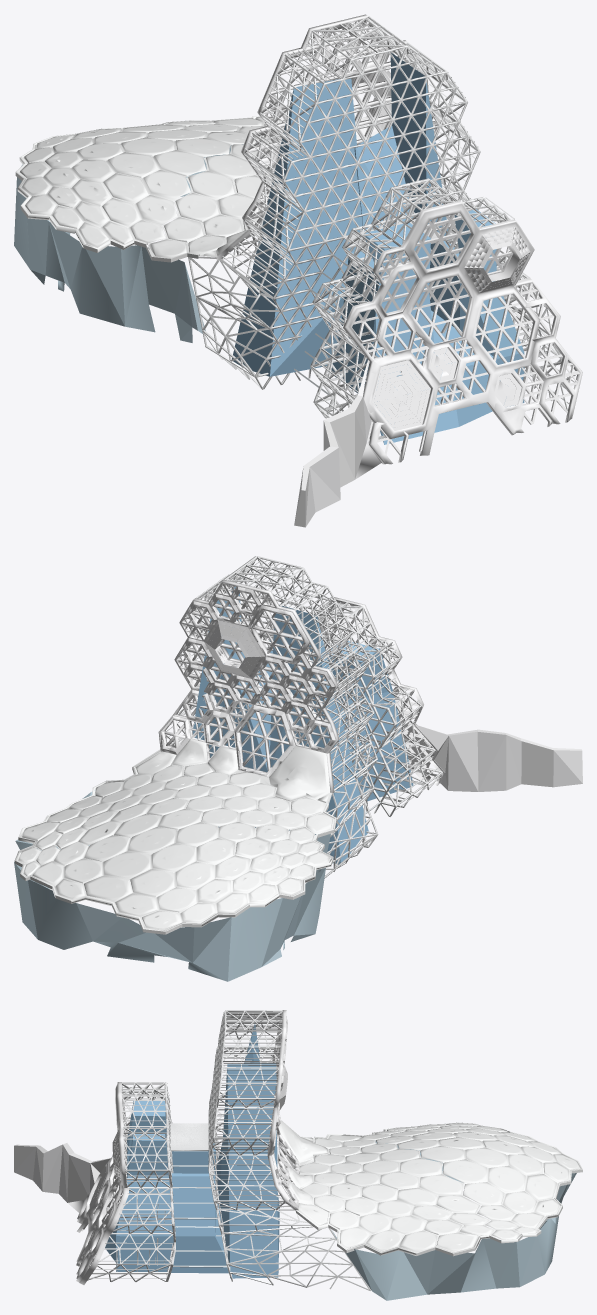
File: music-center.glb
The picture shows the model from 3 angles, top to bottom: view 1: azimuth 30°, elevation 25°; view 2: azimuth 150°, elevation 25°; view 3: azimuth 270°, elevation 25°; orthographic projection. The views are drawn at different scales.
Visible parts, largest first — view 1: HighLowTower_Metal_05.005, HighLowTower_Metal_05.004, HighLowTower_Metal_05.002, HighLowTower_Metal_05.003, HighLowTower_Metal_05.001; view 2: HighLowTower_Metal_05.005, HighLowTower_Metal_05.004, HighLowTower_Metal_05.003, HighLowTower_Metal_05.002, HighLowTower_Metal_05.001; view 3: HighLowTower_Metal_05.005, HighLowTower_Metal_05.004, HighLowTower_Metal_05.001, HighLowTower_Metal_05.002, HighLowTower_Metal_05.003.
Part boxes in pixels (<box>): HighLowTower_Metal_05.005: <box>188,14,582,527</box>; HighLowTower_Metal_05.004: <box>15,116,285,262</box>; HighLowTower_Metal_05.002: <box>232,52,449,376</box>; HighLowTower_Metal_05.003: <box>14,142,256,342</box>; HighLowTower_Metal_05.001: <box>328,209,524,444</box>; HighLowTower_Metal_05.005: <box>137,556,582,878</box>; HighLowTower_Metal_05.004: <box>14,739,336,934</box>; HighLowTower_Metal_05.003: <box>14,790,334,981</box>; HighLowTower_Metal_05.002: <box>192,586,368,864</box>; HighLowTower_Metal_05.001: <box>269,639,413,801</box>; HighLowTower_Metal_05.005: <box>14,1010,370,1290</box>; HighLowTower_Metal_05.004: <box>279,1120,582,1256</box>; HighLowTower_Metal_05.001: <box>105,1101,228,1273</box>; HighLowTower_Metal_05.002: <box>216,1024,279,1278</box>; HighLowTower_Metal_05.003: <box>332,1140,576,1300</box>.
Size of the model in its own units: 109 by 87.31 by 194.
